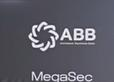ABB: (26, 21, 60, 53)
